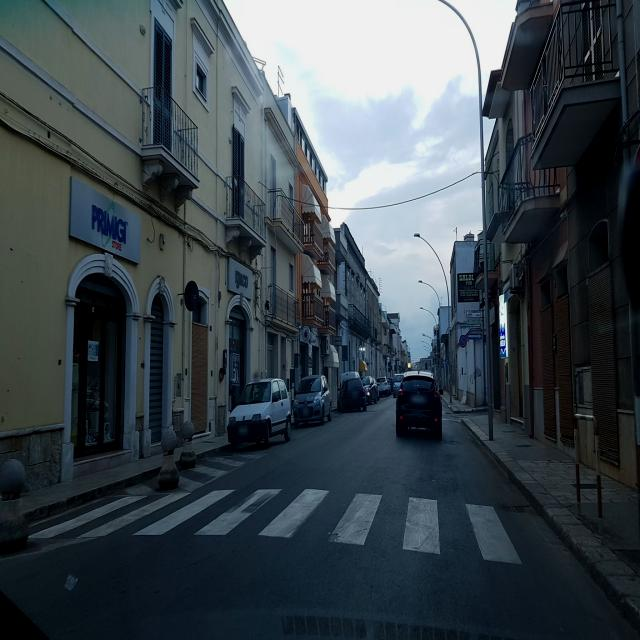car: (227, 376, 292, 451), (395, 370, 443, 440), (293, 373, 332, 428), (338, 373, 368, 412), (363, 377, 379, 404), (392, 373, 404, 398), (376, 377, 389, 398)
